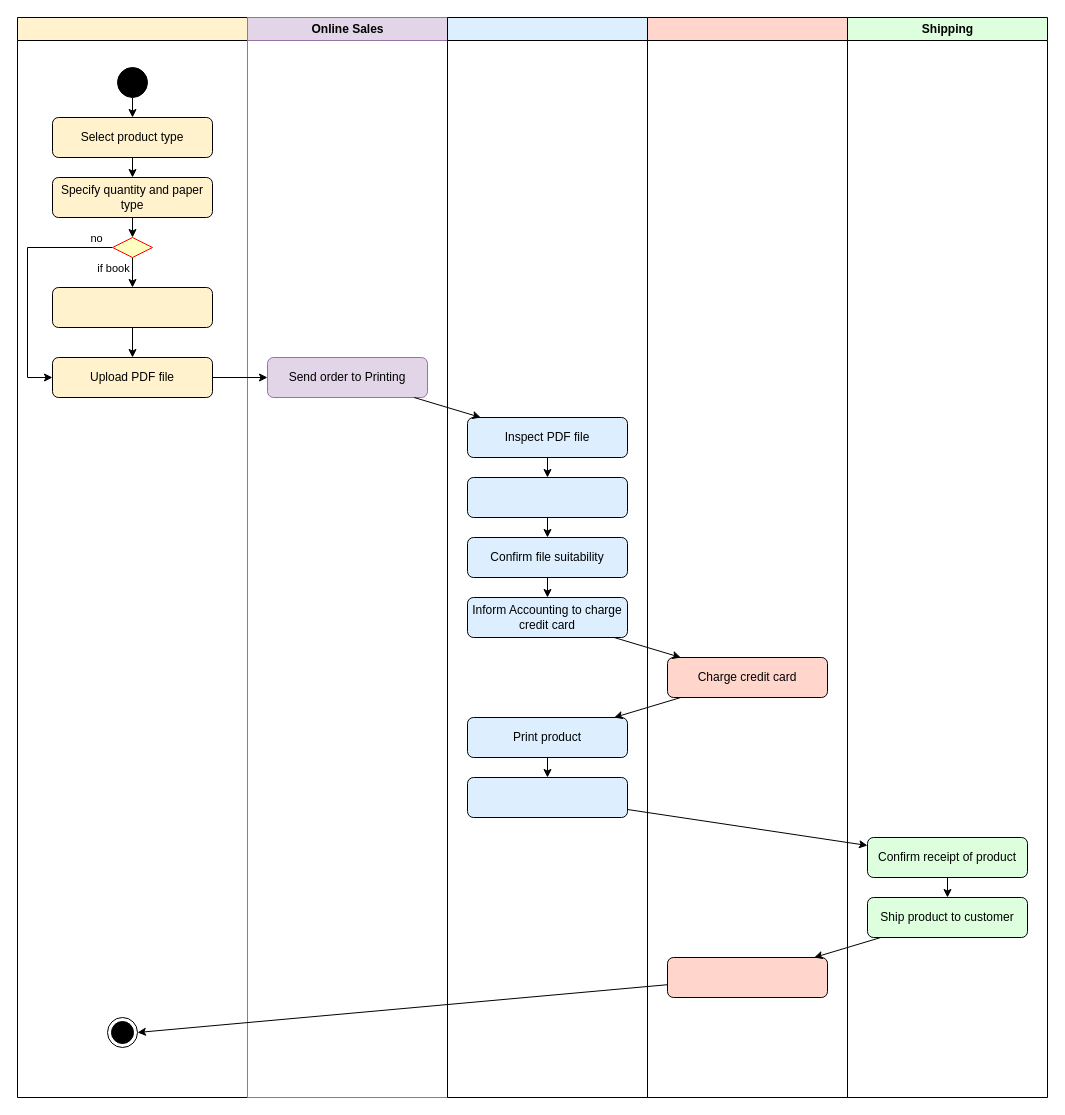
Image size: 1065x1115. Some labels were removed from this diagram. The box of each missing label's shape, as (x1, y1, x2, y2) in pixels:
Accounting: (646, 16, 848, 1098)
choose cover type: (52, 286, 212, 328)
Confirm payment was successful: (666, 956, 828, 998)
Customer: (16, 16, 248, 1098)
If file not suitable, request new file: (466, 476, 628, 518)
Printing: (446, 16, 648, 1098)
Send product to Shipping: (466, 776, 628, 818)
